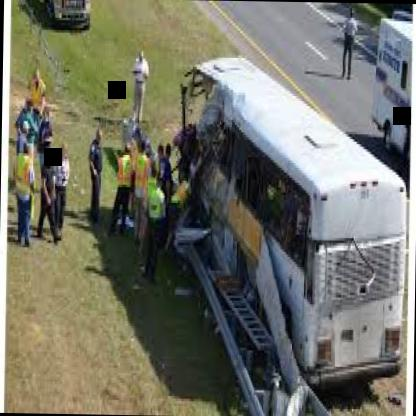accident: (119, 37, 411, 406)
